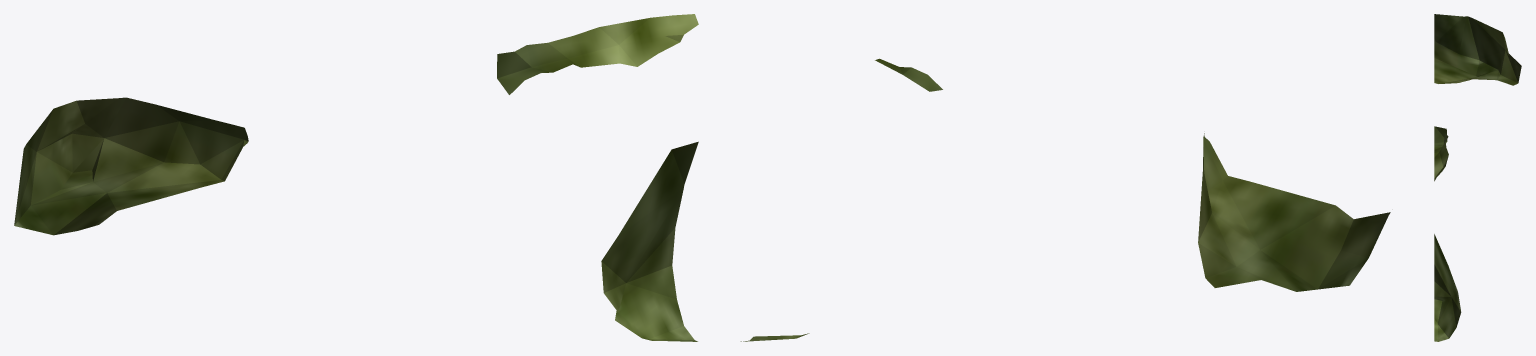
The picture shows the model from 3 angles, left to right: view 1: azimuth 30°, elevation 25°; view 2: azimuth 150°, elevation 25°; view 3: azimuth 270°, elevation 25°; orthographic projection. The views are drawn at different scales.
Size of the model in its own units: 1.58 by 0.756 by 0.3609.
1 material, 1 textured.
